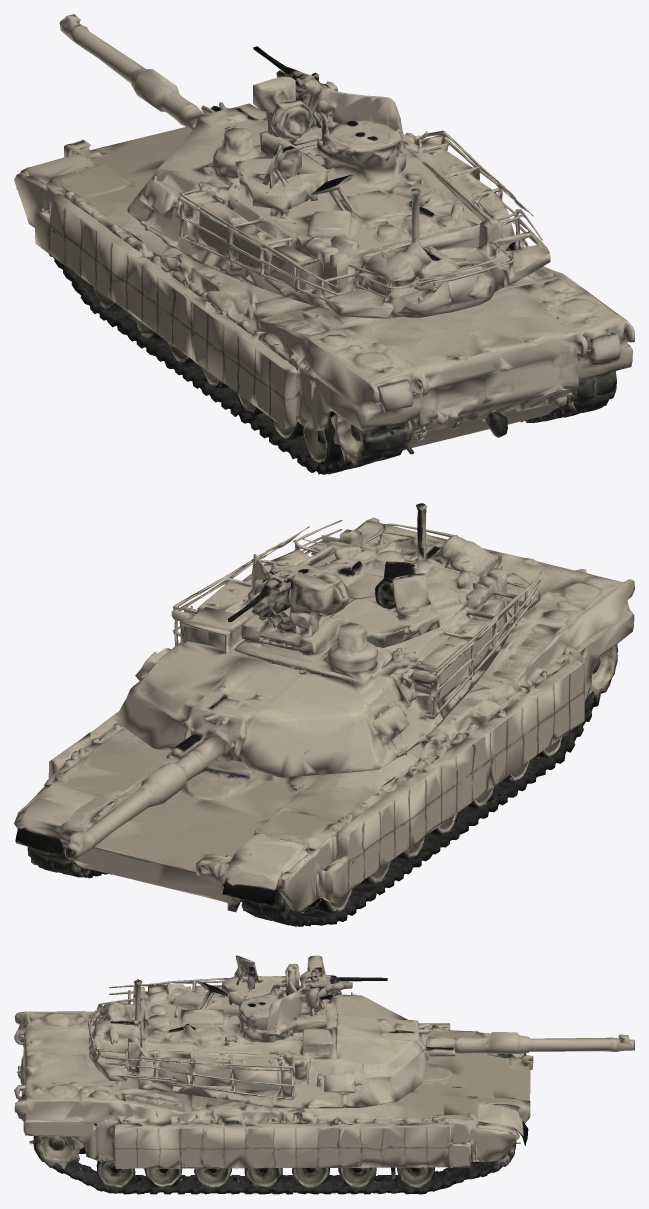
Rendered from m1_abrams.glb.
3 views of the same model, one above another, from view 1: azimuth 30°, elevation 25°; view 2: azimuth 150°, elevation 25°; view 3: azimuth 270°, elevation 25° (orthographic). The views are drawn at different scales.
Parts seen in each view (by area): view 1: hull, turret; view 2: hull, turret; view 3: hull, turret.
Boxes of the visible parts, x1=… form: hull: x1=14, y1=107, x2=634, y2=474; turret: x1=59, y1=14, x2=550, y2=318; hull: x1=14, y1=517, x2=634, y2=926; turret: x1=64, y1=503, x2=541, y2=860; hull: x1=14, y1=1011, x2=533, y2=1194; turret: x1=88, y1=955, x2=634, y2=1097.
Size of the model in its own units: 2.99 by 2.5 by 7.6.
1 material, 1 textured.
